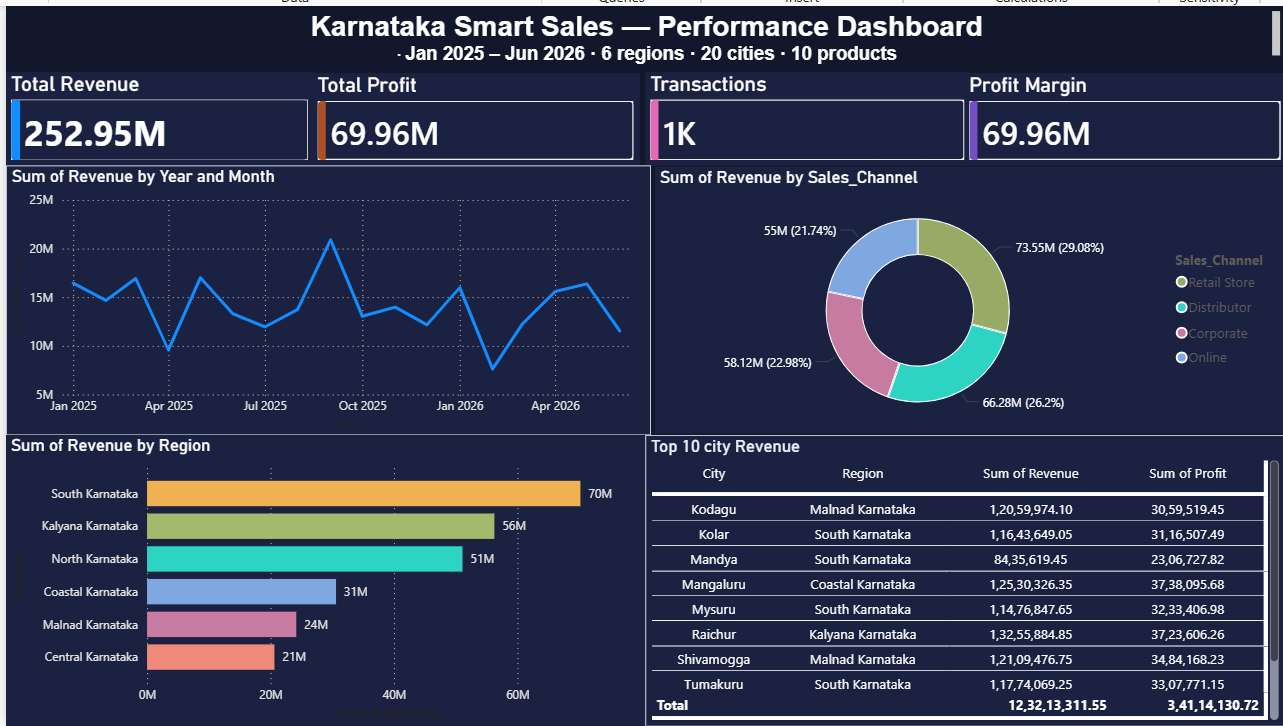

The dashboard page shown, as its layout file describes it:
{"tool":"powerbi","page":{"name":"Page 1","canvas":[1280,720],"ordinal":0},"visuals":[{"type":"textbox","box":[9.7,0,1270.1,66.1],"z":0},{"type":"cardVisual","title":"Total Revenue","fields":{"Data":["Sales_Data.Total Revenue"]},"box":[0,65.7,307.4,93.6],"z":1000},{"type":"cardVisual","title":"Total Profit","fields":{"Data":["Sales_Data.Total Profit"]},"box":[307.4,67.1,326.9,92.2],"z":2000},{"type":"cardVisual","title":"Transactions","fields":{"Data":["Sales_Data.Total Transactions"]},"box":[639.9,65.7,324.1,93.6],"z":3000},{"type":"cardVisual","title":"Profit Margin","fields":{"Data":["Sales_Data.Total Profit"]},"box":[958.4,67.1,321.3,92.2],"z":4000},{"type":"lineChart","fields":{"Y":["Sum(Sales_Data.Revenue)"],"Category":["Sales_Data.Date.Variation.Date Hierarchy.Year","Sales_Data.Date.Variation.Date Hierarchy.Month"]},"box":[0,159.5,645,269.6],"z":5000},{"type":"barChart","fields":{"Category":["Sales_Data.Region"],"Y":["Sum(Sales_Data.Revenue)"]},"box":[0,428.9,639.9,290.6],"z":6000},{"type":"donutChart","fields":{"Category":["Sales_Data.Sales_Channel"],"Y":["Sum(Sales_Data.Revenue)"]},"box":[648.6,161.4,631.4,267.1],"z":7000},{"type":"tableEx","fields":{"Values":["Sales_Data.City","Sales_Data.Region","Sum(Sales_Data.Revenue)","Sum(Sales_Data.Profit)"]},"box":[640,428.6,640,291.4],"z":8001}]}

Visuals, with their boxes on the page's 1280x720 design canvas (x1, y1, x2, y2). These are canvas units, not pixel positions in the 1283x726 screenshot, which may show the page scaled, cropped or inside an application window:
textbox: (left=10, top=0, right=1280, bottom=66)
"Total Revenue" cardVisual: (left=0, top=66, right=307, bottom=159)
"Total Profit" cardVisual: (left=307, top=67, right=634, bottom=159)
"Transactions" cardVisual: (left=640, top=66, right=964, bottom=159)
"Profit Margin" cardVisual: (left=958, top=67, right=1280, bottom=159)
lineChart - Sum(Sales_Data.Revenue) x Sales_Data.Date.Variation.Date Hierarchy.Year: (left=0, top=160, right=645, bottom=429)
barChart - Sales_Data.Region x Sum(Sales_Data.Revenue): (left=0, top=429, right=640, bottom=720)
donutChart - Sales_Data.Sales_Channel x Sum(Sales_Data.Revenue): (left=649, top=161, right=1280, bottom=428)
tableEx - Sales_Data.City x Sales_Data.Region: (left=640, top=429, right=1280, bottom=720)
